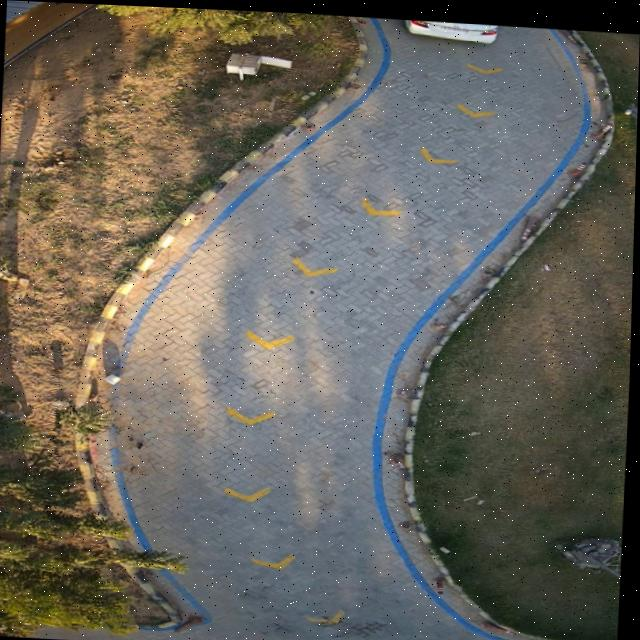car: (399, 16, 496, 41)
